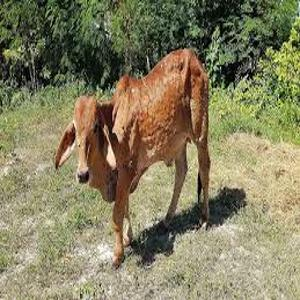lumpy skin diesease: (54, 47, 211, 269)
